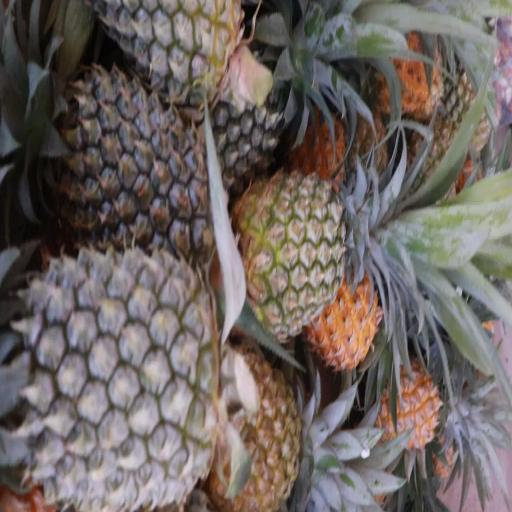------------------------------: (241, 172, 360, 333), (219, 355, 309, 512)
Pineapple - v8 v1: (311, 257, 381, 369), (378, 365, 446, 446)
